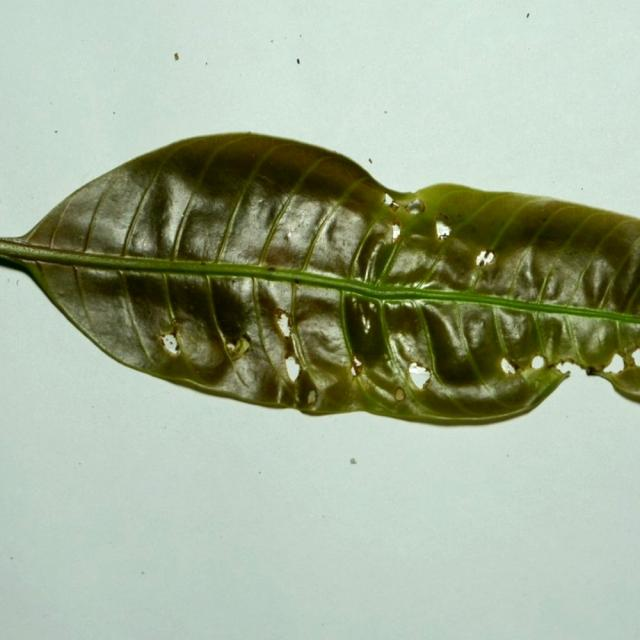Anthracnose: (400, 359, 440, 396), (511, 361, 564, 387), (429, 210, 456, 242), (223, 336, 244, 358), (275, 317, 293, 340), (474, 248, 494, 266), (299, 387, 316, 406), (405, 198, 425, 214), (163, 337, 180, 355), (611, 354, 628, 372), (505, 359, 522, 375), (284, 353, 299, 371), (380, 194, 396, 210), (291, 362, 303, 383), (389, 221, 401, 241), (530, 355, 546, 370), (361, 310, 371, 333), (540, 358, 557, 370), (408, 362, 422, 374), (394, 386, 406, 400), (555, 363, 569, 374), (352, 357, 363, 369)
Mango: (0, 133, 639, 430)
